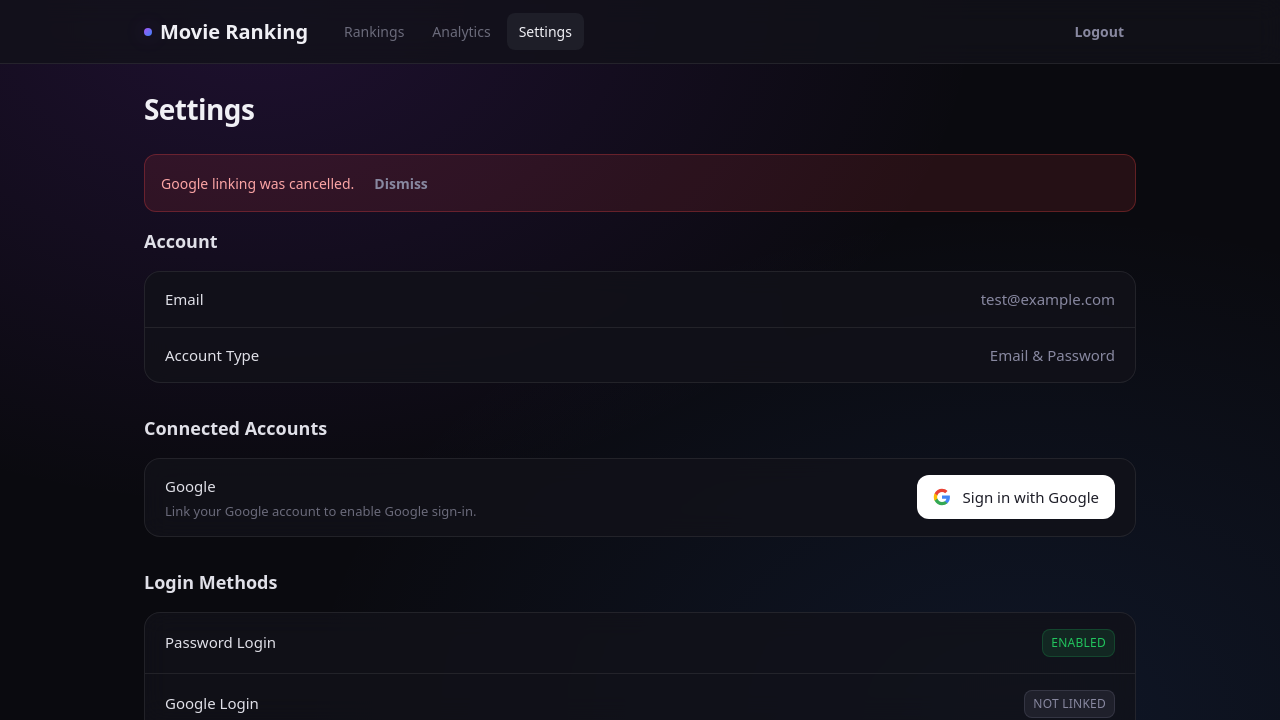
it: SettingsPage › Callback Handling › dismisses error message when button clicked
Expected: the text "Google linking was cancelled." is shown, left=161, top=174, right=354, bottom=192
Click the button "Dismiss": (401, 183) left=362, top=167, right=440, bottom=199
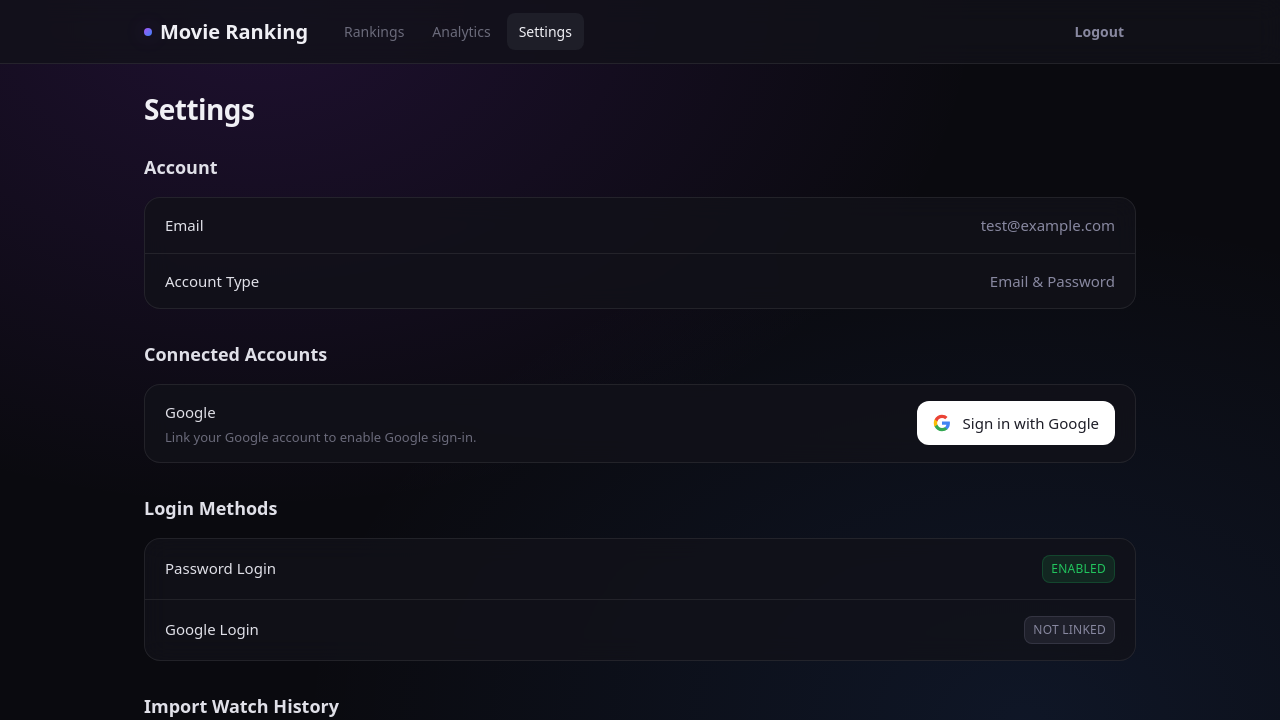
Expected: the text "Google linking was cancelled." is gone
